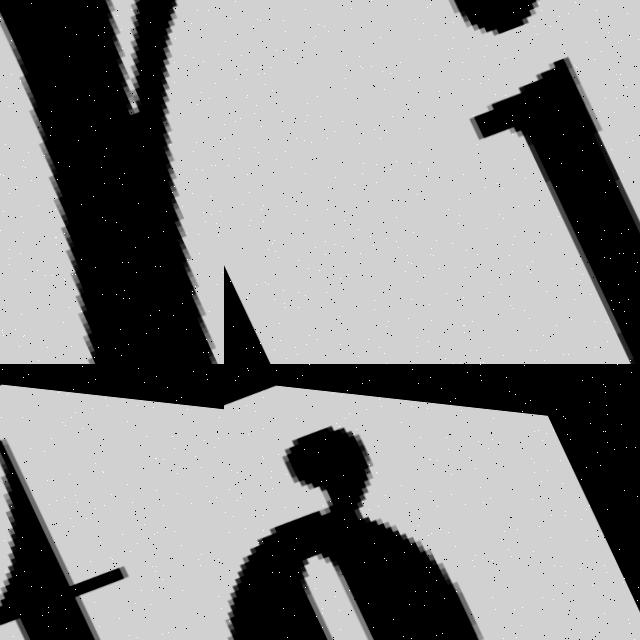G: (224, 366, 630, 640)
J: (372, 0, 640, 364)
R: (0, 0, 224, 364)
T: (0, 384, 224, 640)
